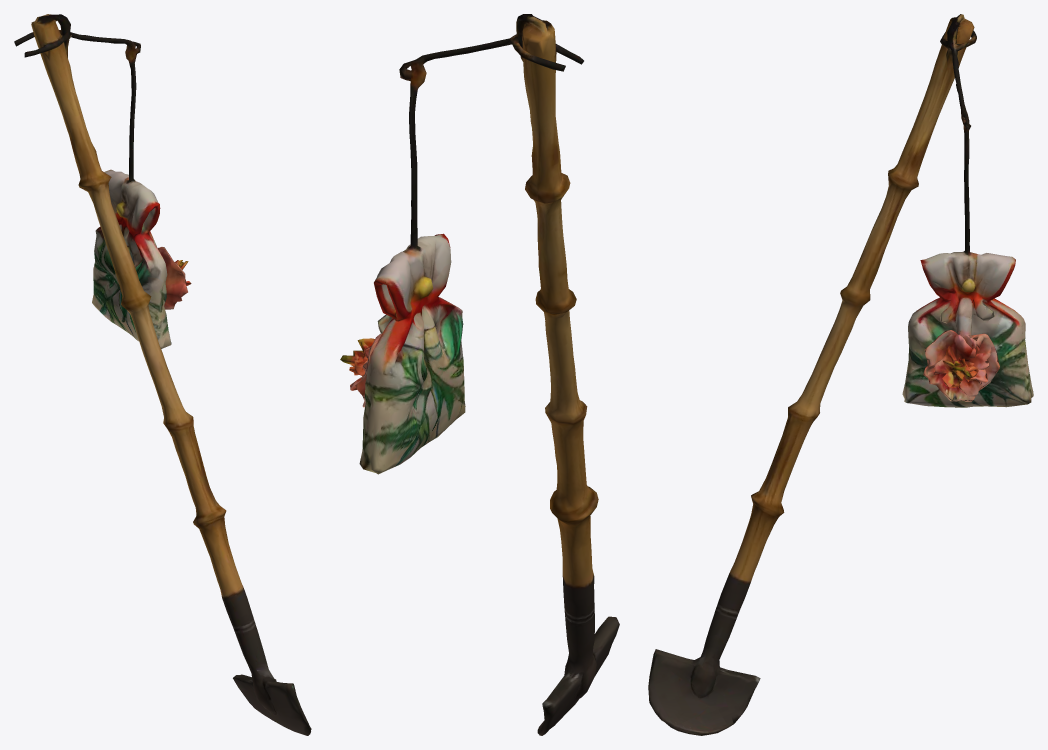
The model's file is huachu.glb.
The picture shows the model from 3 angles, left to right: view 1: azimuth 30°, elevation 25°; view 2: azimuth 150°, elevation 25°; view 3: azimuth 270°, elevation 25°; orthographic projection. The views are drawn at different scales.
Visible parts, largest first — view 1: tripo_node_448b036d-1012-4e5c-a6d8-8b41d5128e34; view 2: tripo_node_448b036d-1012-4e5c-a6d8-8b41d5128e34; view 3: tripo_node_448b036d-1012-4e5c-a6d8-8b41d5128e34.
Boxes of the visible parts, <box> form: tripo_node_448b036d-1012-4e5c-a6d8-8b41d5128e34: <box>14,14,311,735</box>; tripo_node_448b036d-1012-4e5c-a6d8-8b41d5128e34: <box>340,14,619,735</box>; tripo_node_448b036d-1012-4e5c-a6d8-8b41d5128e34: <box>648,14,1033,735</box>.
Size of the model in its own units: 0.2751 by 1 by 0.5296.
1 material, 1 textured.
